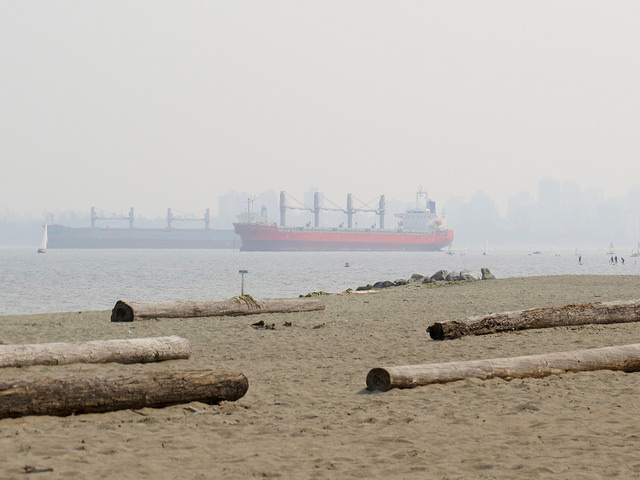boat: (40, 224, 52, 255)
bulk carrier: (234, 192, 457, 252), (44, 199, 265, 249)
